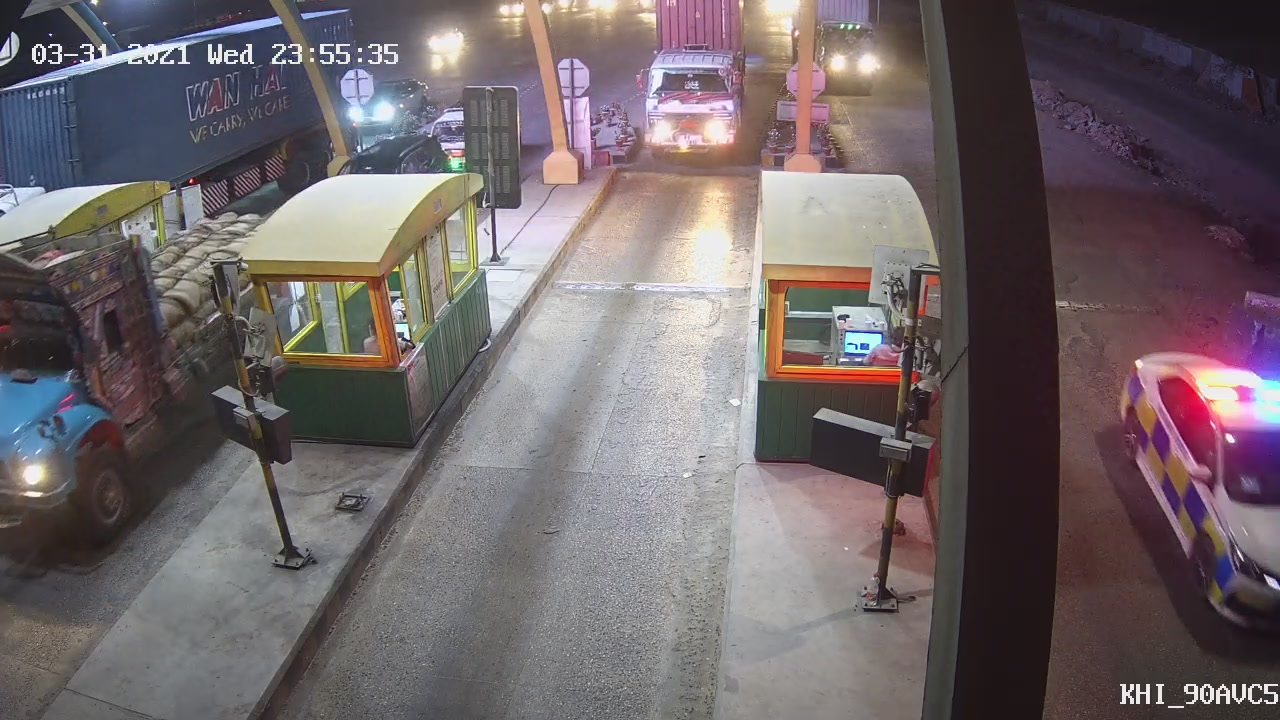F5: (618, 1, 755, 173)
